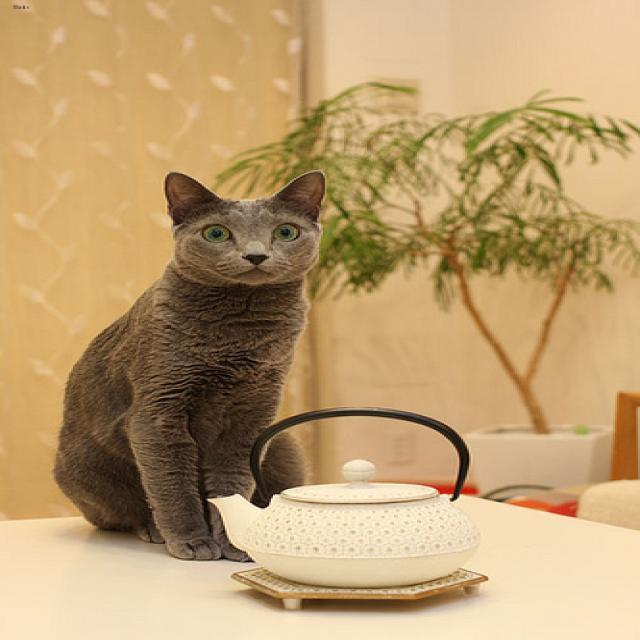Russian_Blue: (161, 169, 323, 283)
